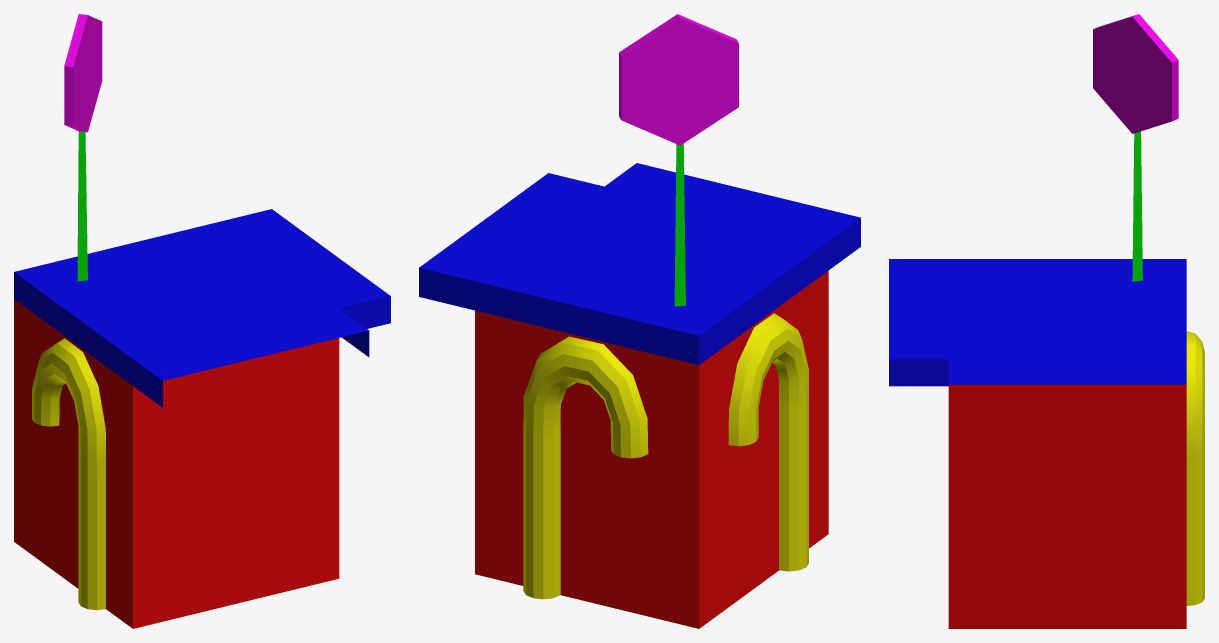
Rendered from Kundentheke_3_ecke_low.fbx.
3 views of the same model, side by side, from view 1: azimuth 30°, elevation 25°; view 2: azimuth 150°, elevation 25°; view 3: azimuth 270°, elevation 25° (orthographic). The views are drawn at different scales.
Visible parts, largest first — view 1: Kundentheke_3_ecke_low; view 2: Kundentheke_3_ecke_low; view 3: Kundentheke_3_ecke_low.
Boxes of the visible parts, x1=… form: Kundentheke_3_ecke_low: x1=14, y1=14, x2=390, y2=628; Kundentheke_3_ecke_low: x1=419, y1=14, x2=860, y2=628; Kundentheke_3_ecke_low: x1=889, y1=14, x2=1204, y2=628.
Size of the model in its own units: 1.06 by 1.98 by 1.06.
